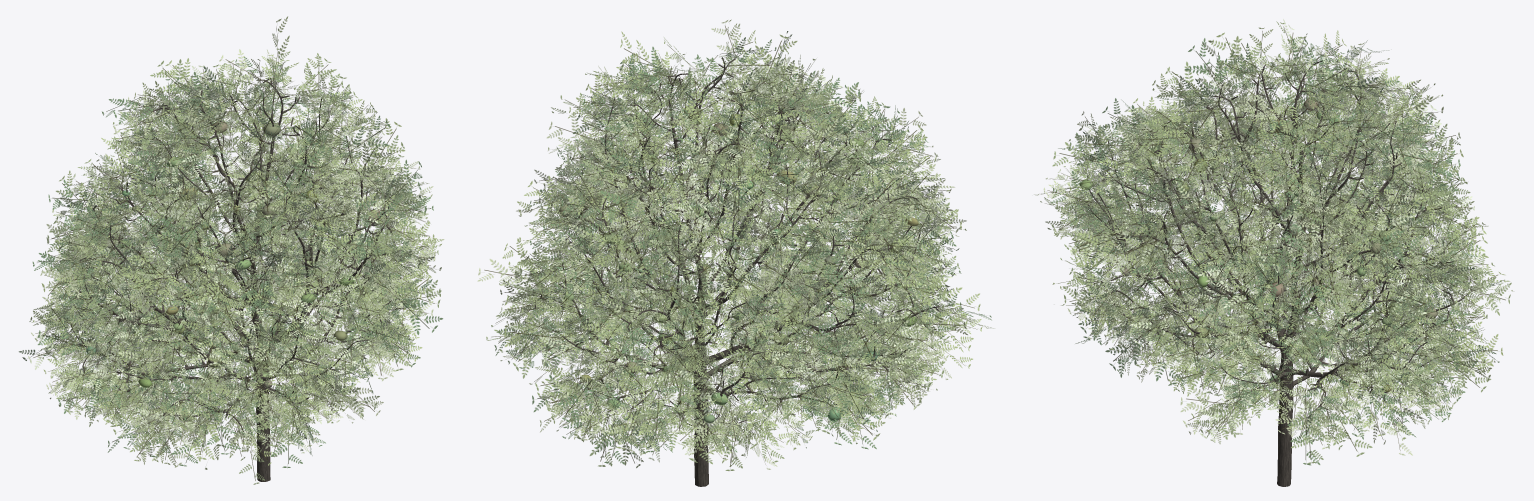
The model's file is tree_38_broadleaf.glb.
3 renders of one model, left to right at view 1: azimuth 30°, elevation 25°; view 2: azimuth 150°, elevation 25°; view 3: azimuth 270°, elevation 25°, orthographic. The views are drawn at different scales.
Visible parts, largest first — view 1: tree_38_broadleaf.leaves, tree_38_broadleaf.trunk_branches, tree_38_broadleaf.foliage_volume; view 2: tree_38_broadleaf.leaves, tree_38_broadleaf.trunk_branches, tree_38_broadleaf.foliage_volume; view 3: tree_38_broadleaf.leaves, tree_38_broadleaf.trunk_branches, tree_38_broadleaf.foliage_volume.
Part boxes in pixels (x1=…): tree_38_broadleaf.leaves: x1=19, y1=16, x2=444, y2=484; tree_38_broadleaf.trunk_branches: x1=71, y1=78, x2=401, y2=481; tree_38_broadleaf.foliage_volume: x1=86, y1=121, x2=381, y2=419; tree_38_broadleaf.leaves: x1=477, y1=19, x2=994, y2=470; tree_38_broadleaf.trunk_branches: x1=534, y1=57, x2=940, y2=486; tree_38_broadleaf.foliage_volume: x1=559, y1=105, x2=918, y2=422; tree_38_broadleaf.leaves: x1=1034, y1=19, x2=1514, y2=465; tree_38_broadleaf.trunk_branches: x1=1087, y1=60, x2=1471, y2=486; tree_38_broadleaf.foliage_volume: x1=1079, y1=98, x2=1438, y2=391.
Bounding box in the file's own units: 13.29 × 13.66 × 13.42.
Materials: 3 (2 with a texture image).
